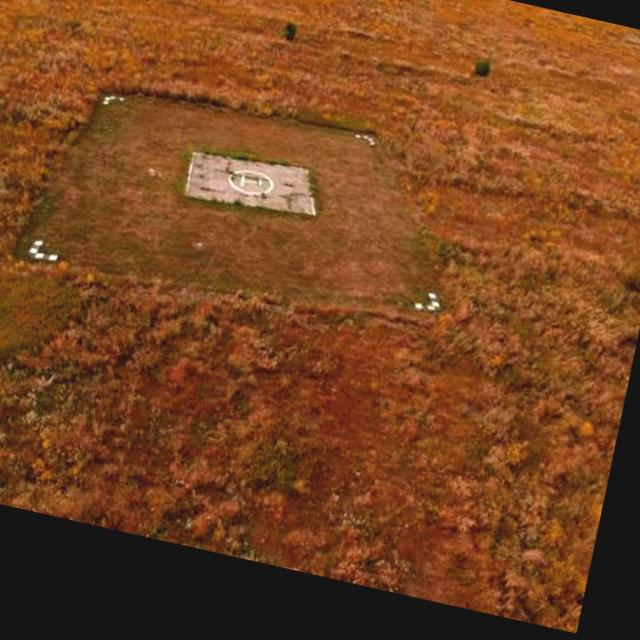helipad: (226, 168, 274, 195)
